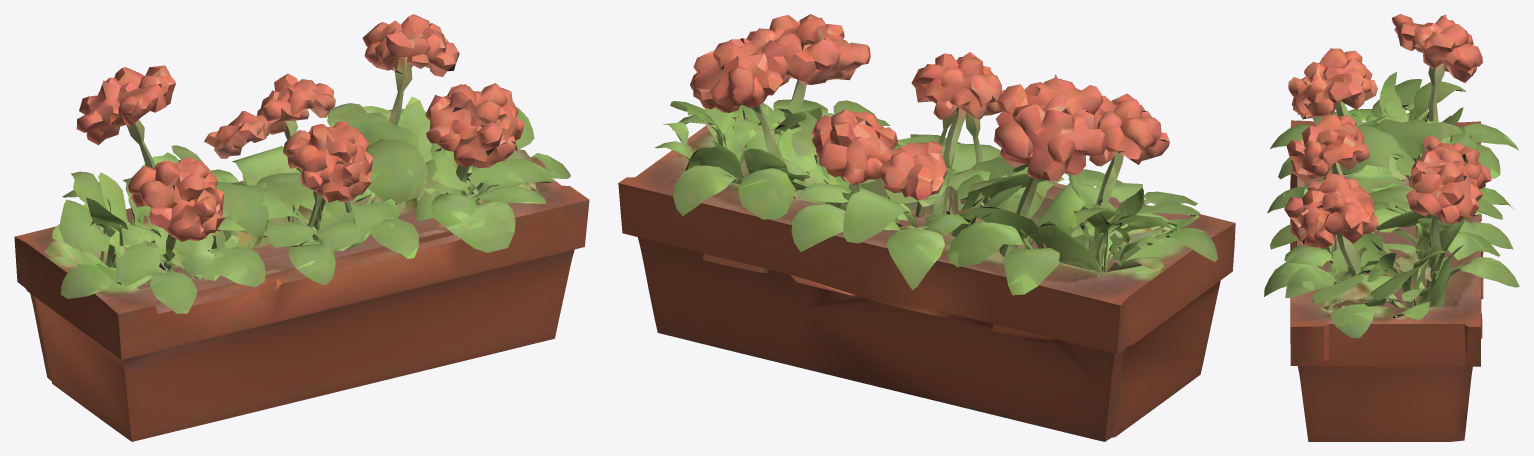
File: WindowBoxRed.glb
3 renders of one model, left to right at view 1: azimuth 30°, elevation 25°; view 2: azimuth 150°, elevation 25°; view 3: azimuth 270°, elevation 25°, orthographic. The views are drawn at different scales.
Parts seen in each view (by area): view 1: WindowBoxRed; view 2: WindowBoxRed; view 3: WindowBoxRed.
Part boxes in pixels (<box>): WindowBoxRed: <box>14,14,589,441</box>; WindowBoxRed: <box>618,14,1235,441</box>; WindowBoxRed: <box>1264,14,1519,441</box>.
Bounding box in the file's own units: 1.08 × 0.6095 × 0.5249.
Materials: 1 (1 with a texture image).
